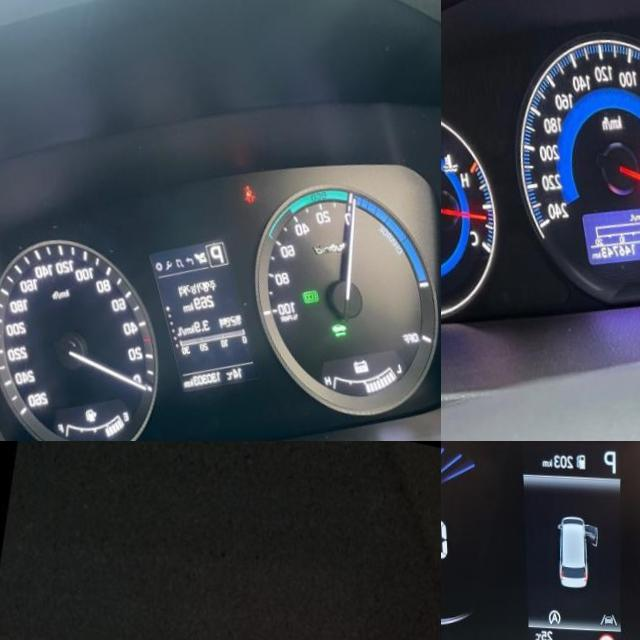LaneCenteringOff: (600, 609, 617, 623)
